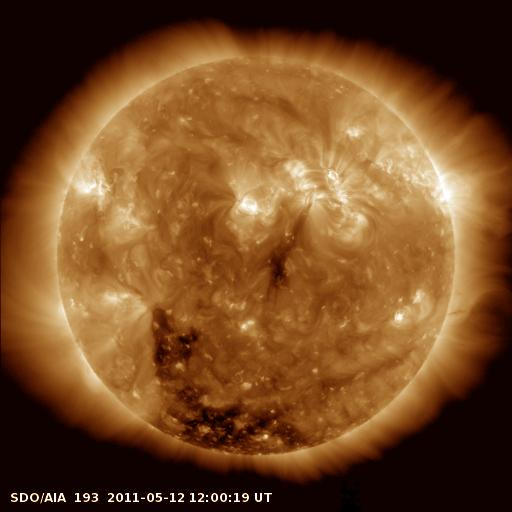coronal_hole: (147, 390, 339, 443), (146, 308, 205, 379), (259, 233, 301, 291)
